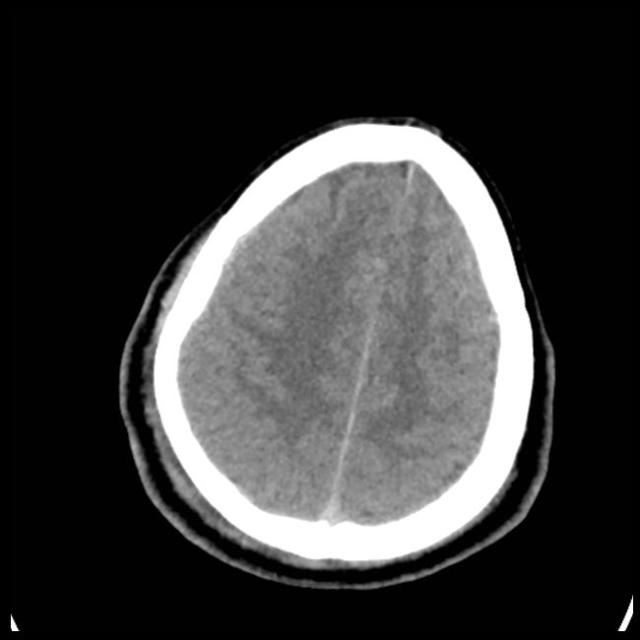lesion: (116, 111, 559, 591)
